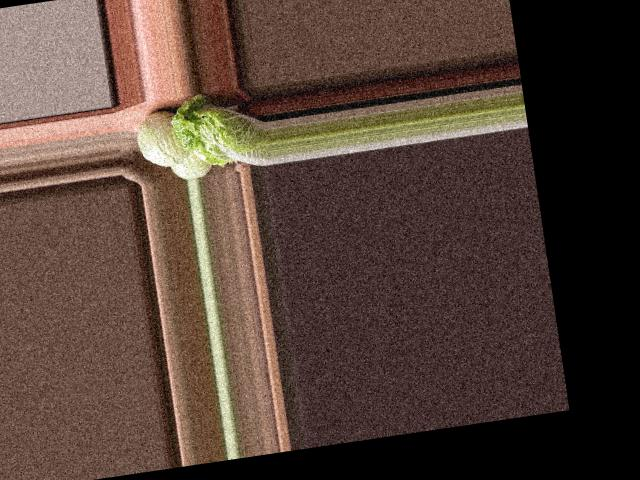lettuce: (167, 84, 268, 175)
